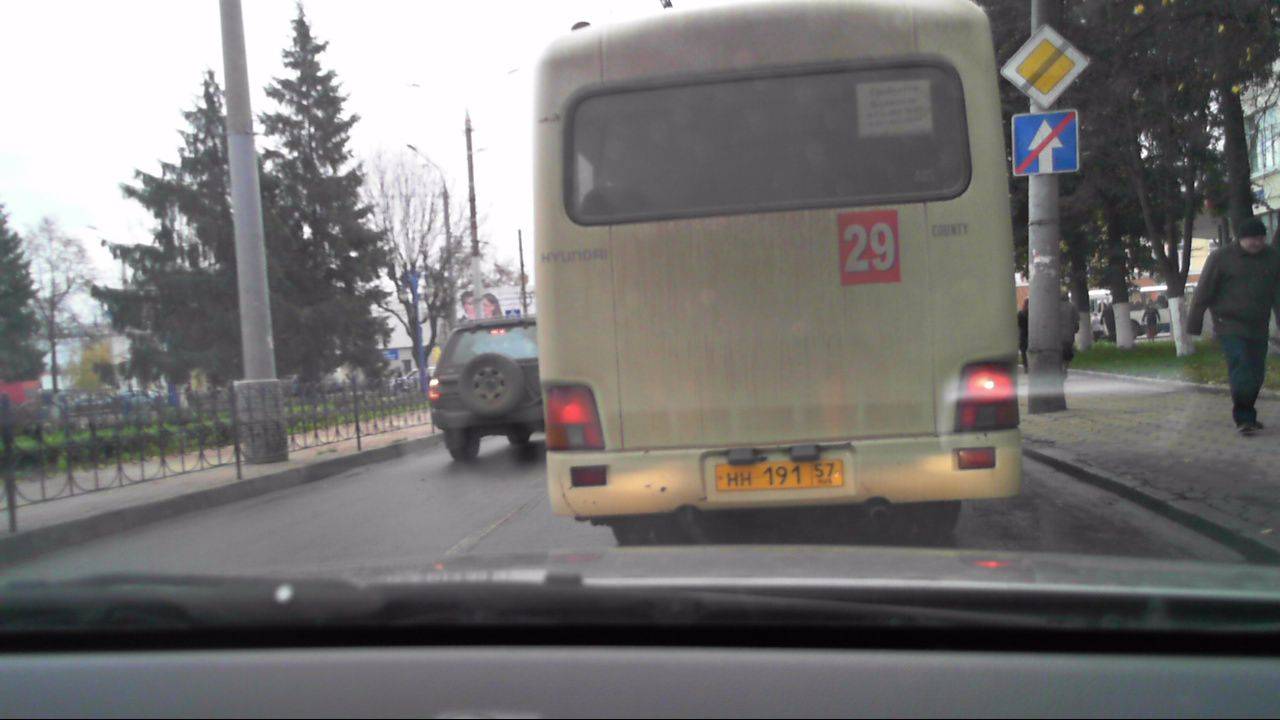main road: (997, 26, 1089, 109)
